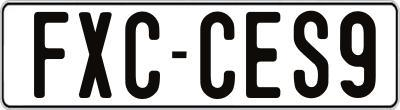9: (337, 10, 378, 100)
C: (197, 12, 238, 100), (124, 11, 164, 99)
E: (244, 10, 282, 97)
F: (33, 12, 73, 102)
S: (291, 11, 328, 102)
X: (78, 9, 116, 95)
